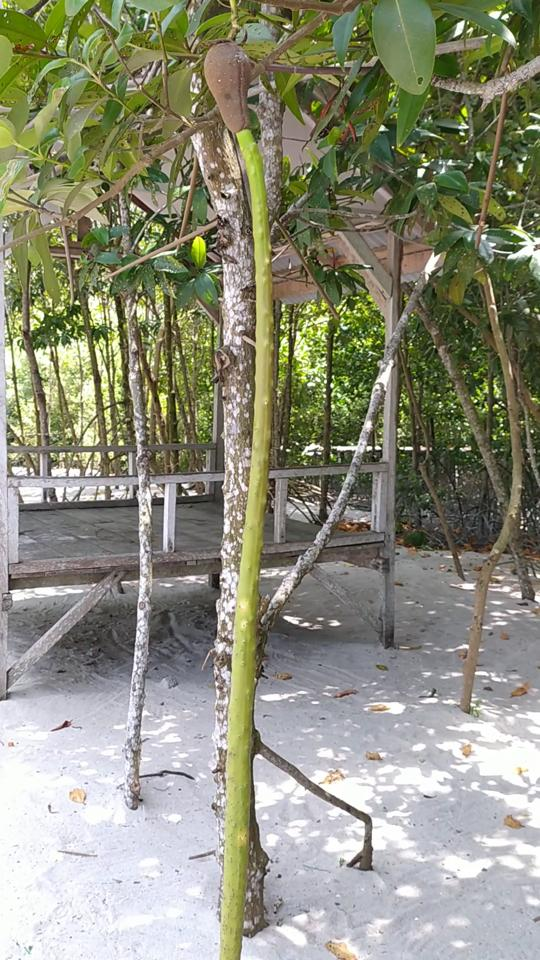mentah: (194, 26, 287, 956)
